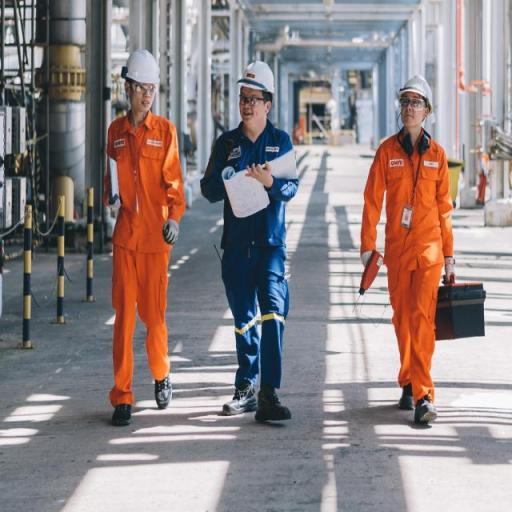helmet: (392, 70, 438, 118), (118, 45, 162, 88), (236, 55, 278, 95)
vest: (359, 124, 457, 336), (102, 110, 186, 257)
